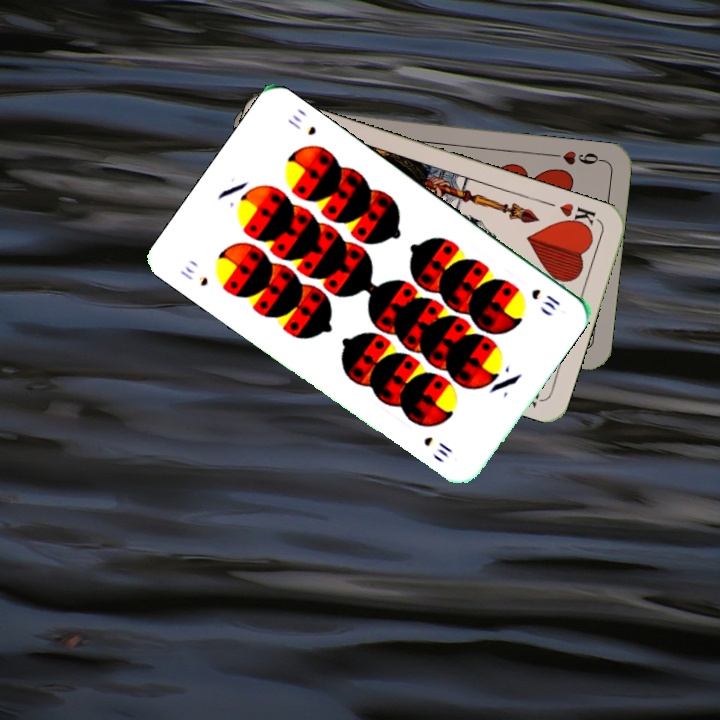H9: (547, 146, 606, 168)
HK: (555, 199, 602, 234)
S10: (527, 284, 563, 313), (176, 261, 211, 289)
